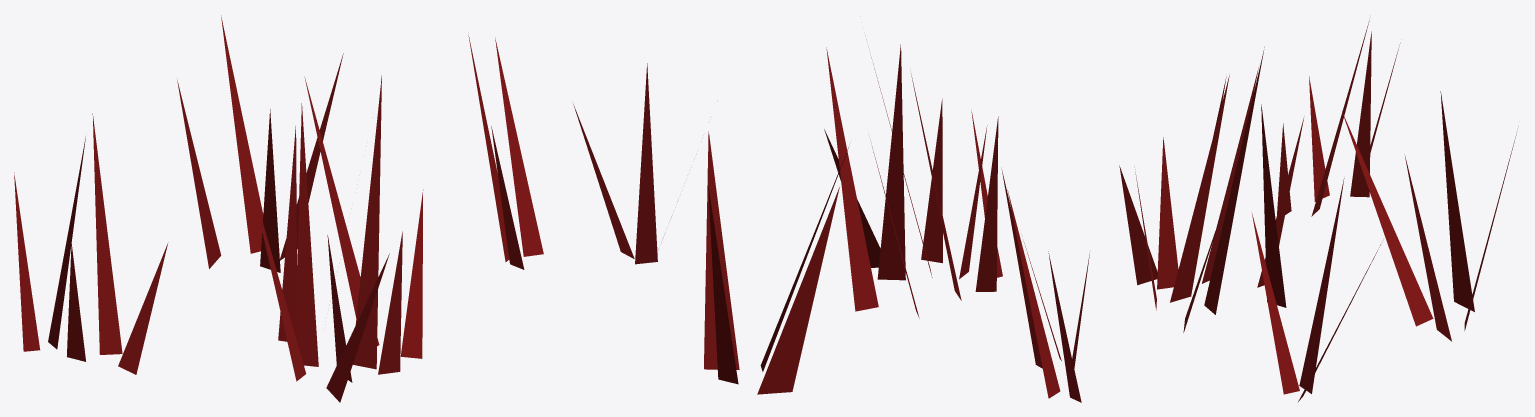
Rendered from Model_Horde_Plants1.fbx.
3 renders of one model, left to right at view 1: azimuth 30°, elevation 25°; view 2: azimuth 150°, elevation 25°; view 3: azimuth 270°, elevation 25°, orthographic. The views are drawn at different scales.
Parts seen in each view (by area): view 1: cao1; view 2: cao1; view 3: cao1.
Boxes of the visible parts, left/top/right/bottom form: cao1: left=14, top=15, right=543, bottom=402; cao1: left=573, top=44, right=1089, bottom=402; cao1: left=1119, top=20, right=1517, bottom=401.
Size of the model in its own units: 89.75 by 47.9 by 68.33.
